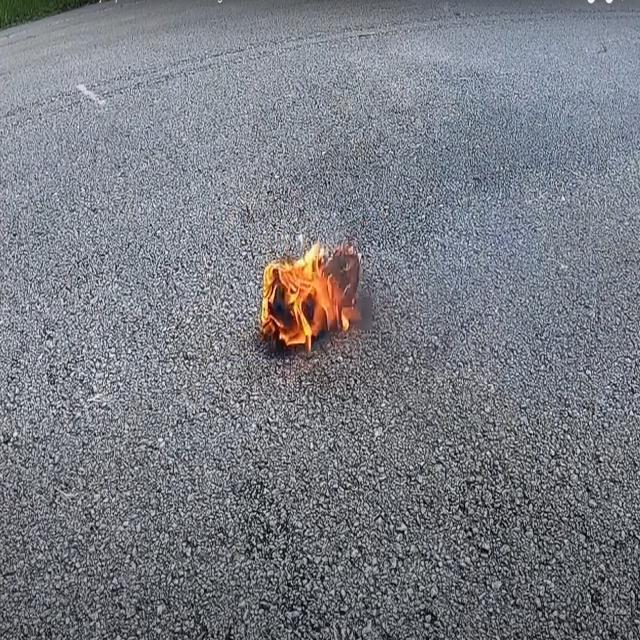Fire: (258, 238, 369, 352)
